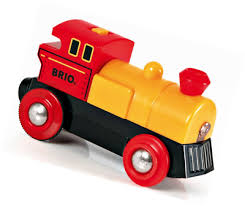brio: (13, 13, 215, 189)
